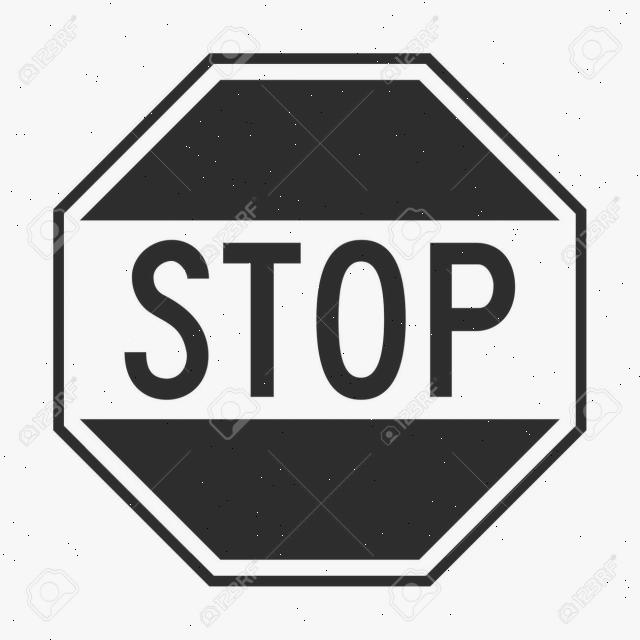Stop-sign: (28, 8, 628, 618)
